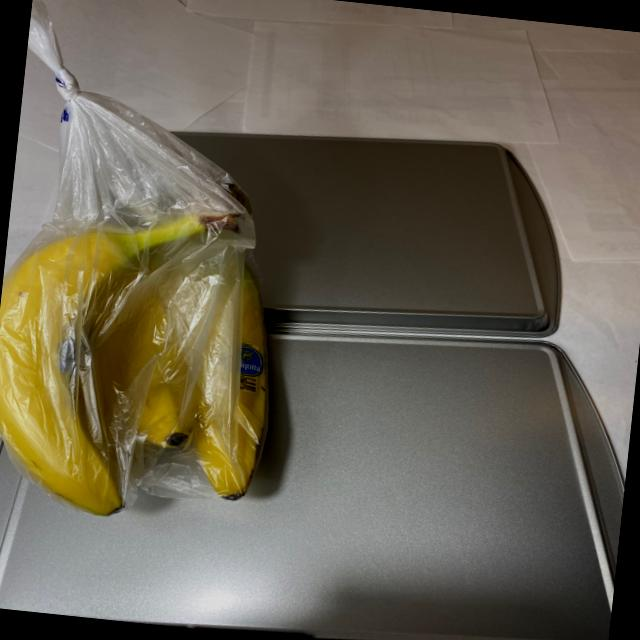banana: (0, 152, 305, 539)
